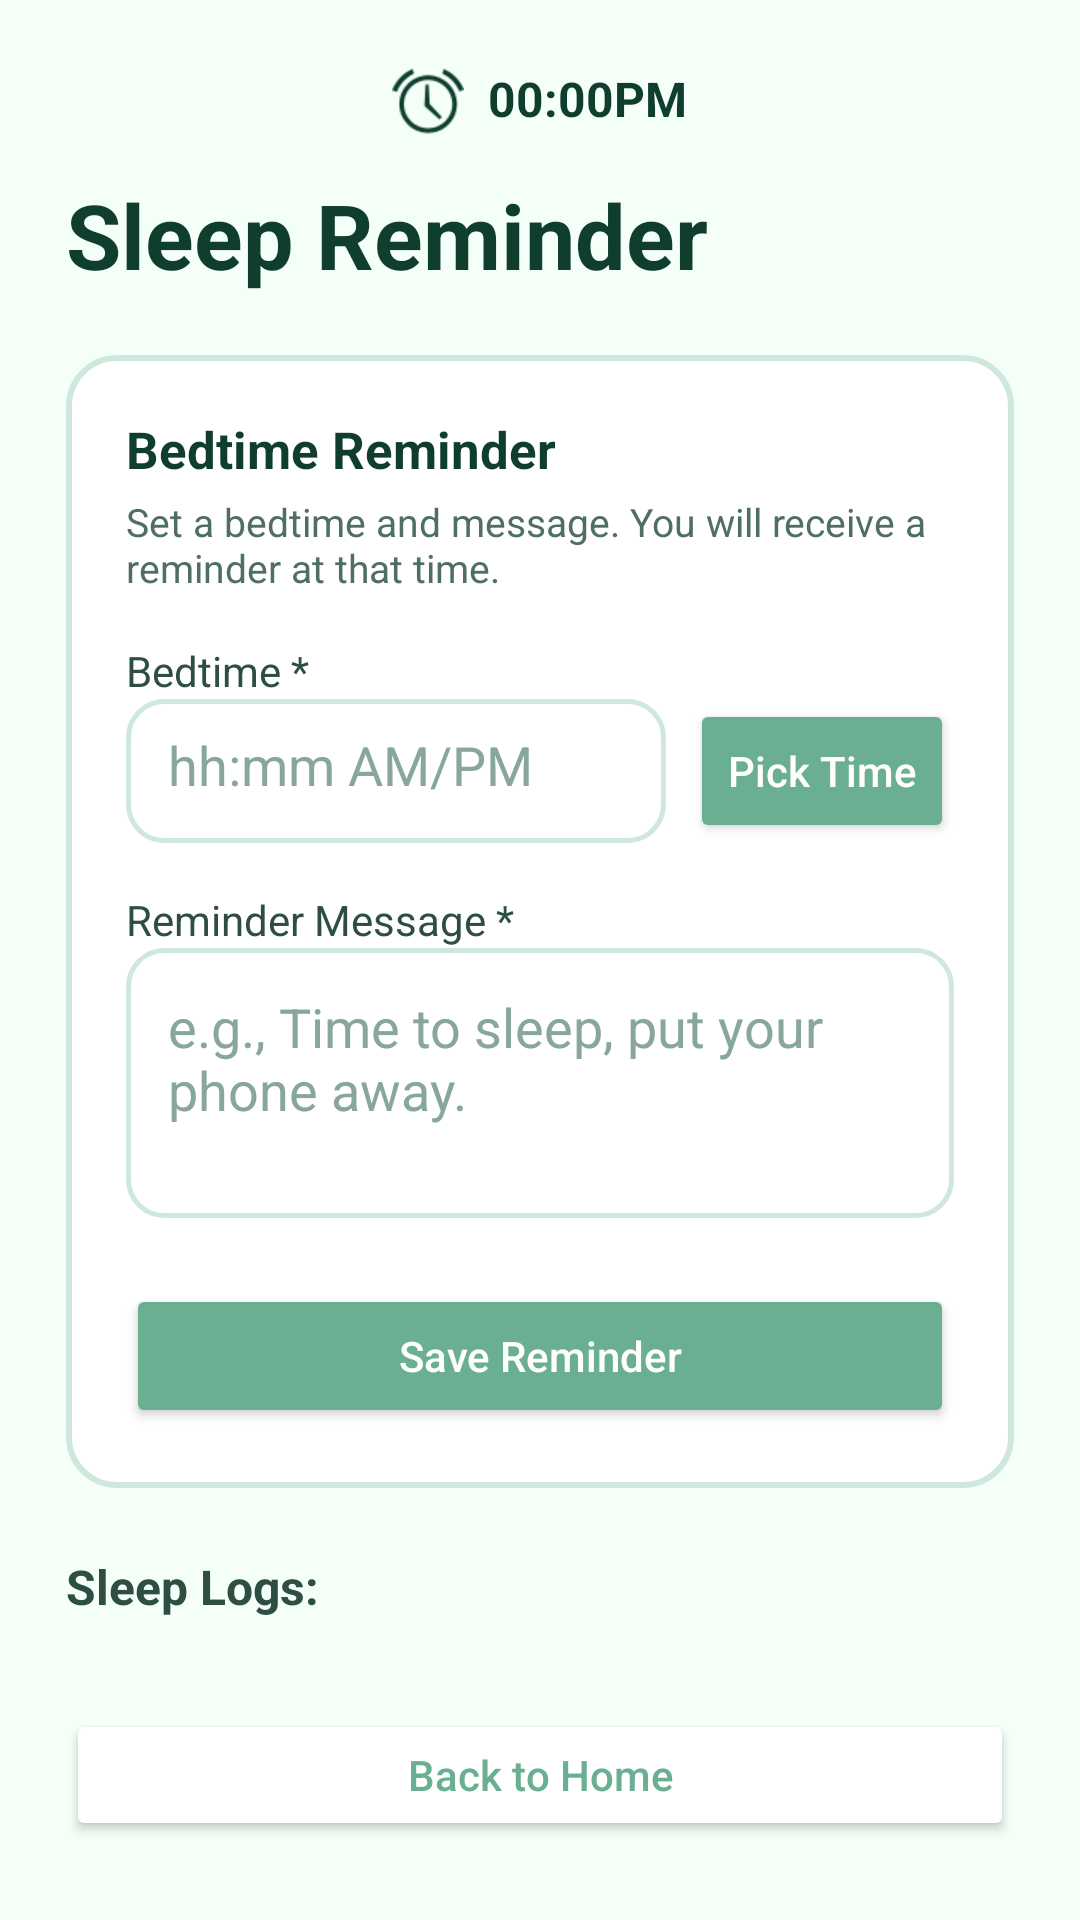

Icons on this 1080×1920 Android screen, each with the point to tap as point (x, y):
lock idle alarm: point (428, 101)
